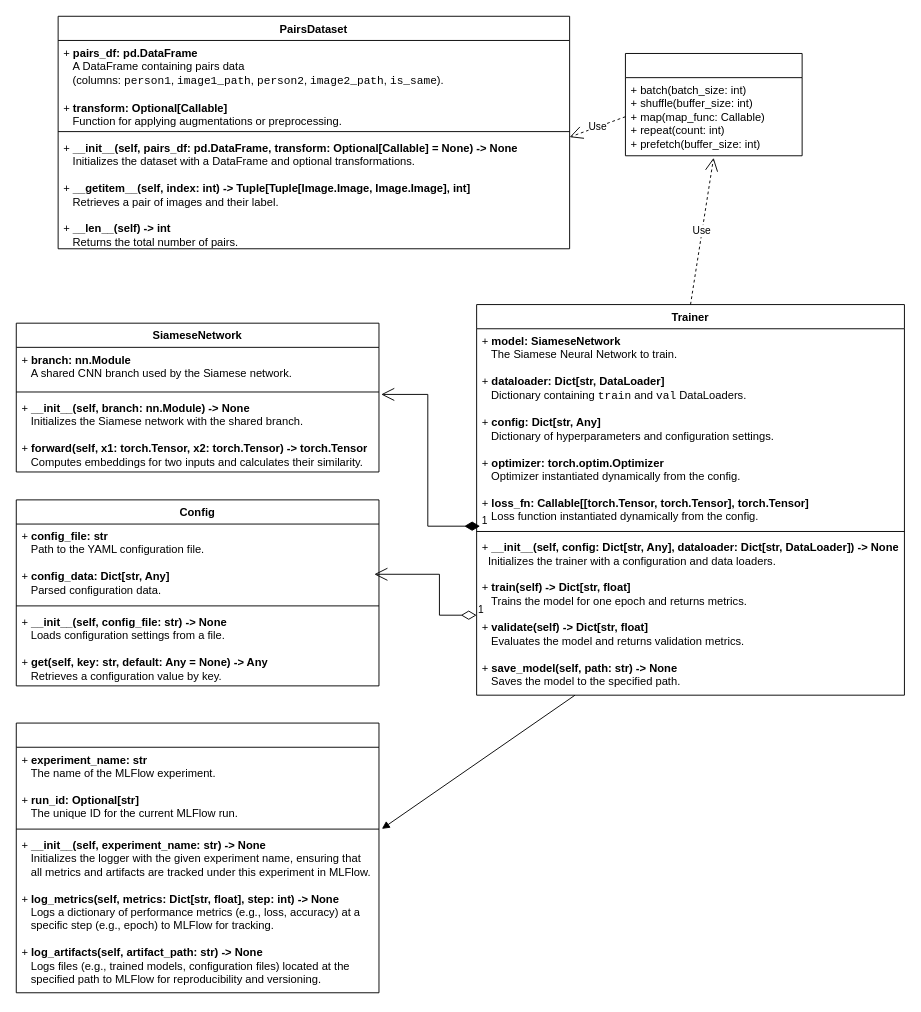
The diagram is 921 pixels wide and 1012 high, and some of its shapes have lost their labels. The shapes that lost their labels are listed below. From the top down, each one's box as (x1, y1, x2, y2) in pixels, then its label:
(624, 53, 802, 156): DataLoader (tf.data.Dataset)
(15, 722, 379, 993): MLFlowLogger
